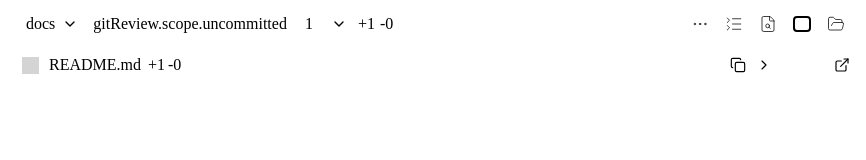
Test: multi-folder review › keeps the single-folder toolbar unchanged but shows the selector with one Git source among multiple folders
Click the button with aria-label "gitReview.repositories.select" at (52, 24), box [22, 7, 82, 41]
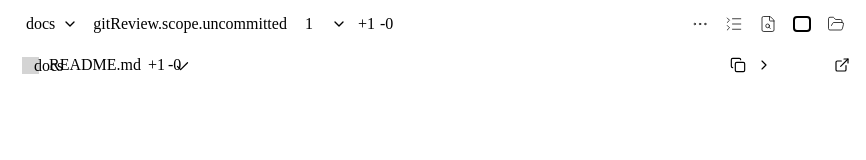
Now the menu item "docs" is shown, box [26, 51, 198, 81]
